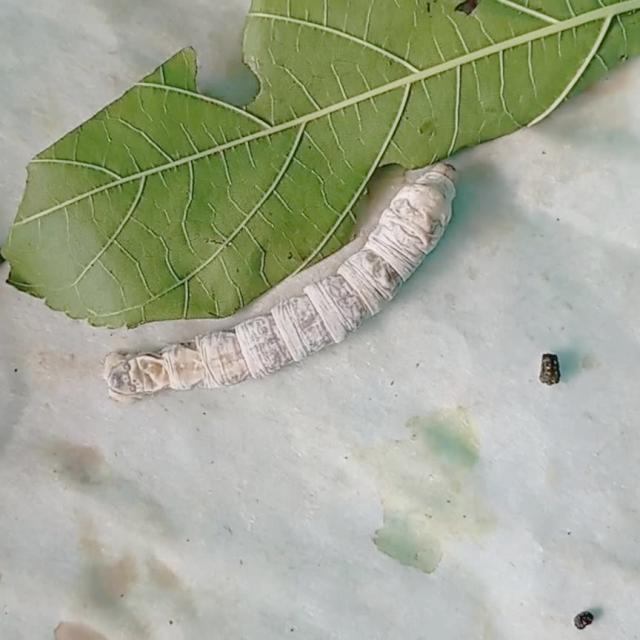Grasserie: (89, 157, 470, 427)
